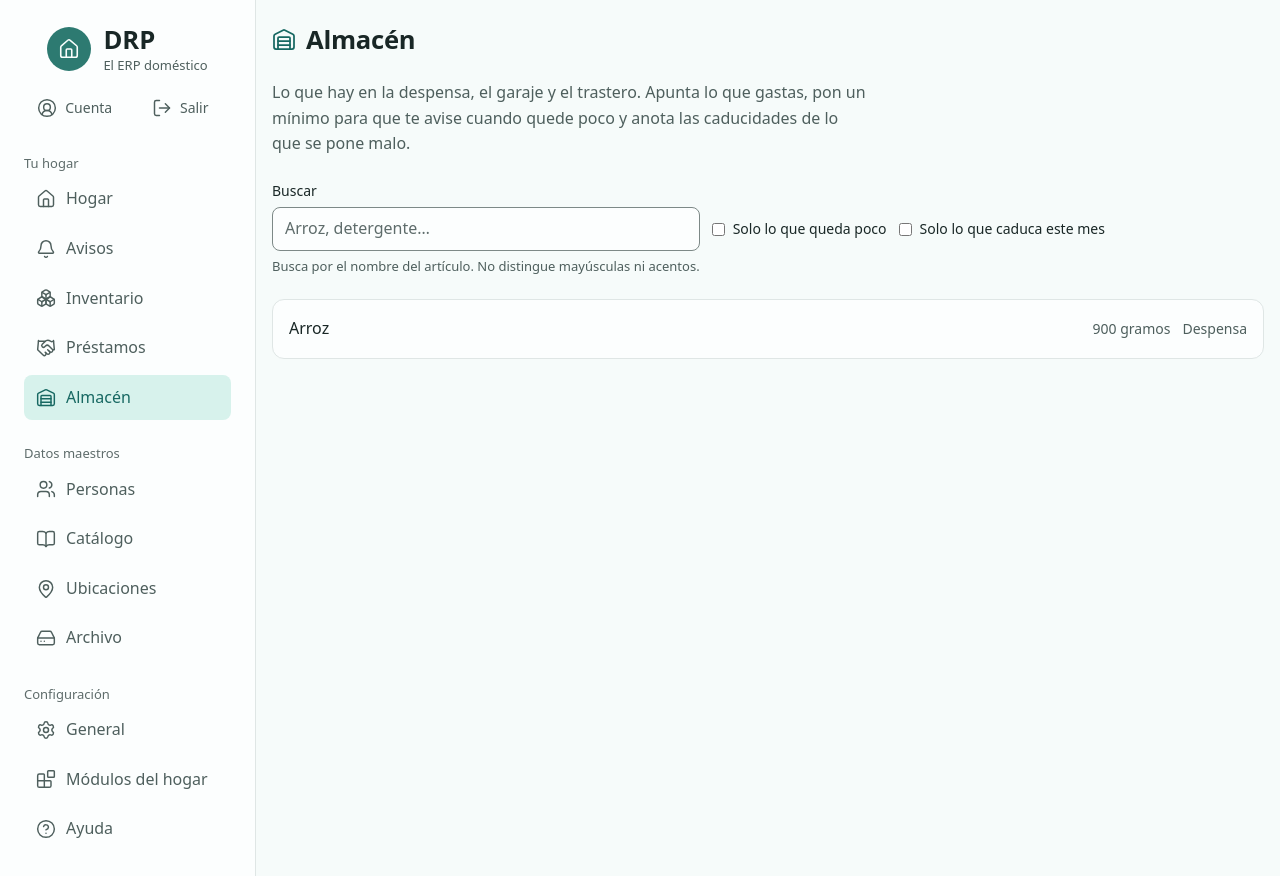
Test case: el almacén › con un filtro puesto y sin resultados, dice que es el filtro
Expected: the heading "Almacén" is shown, [306,24,415,56]
Expected: the button "Arroz 900 gramos Despensa" is shown, [273,300,1263,358]
Click the checkbox labelled "Solo lo que queda poco": (718, 229) [712,223,725,236]
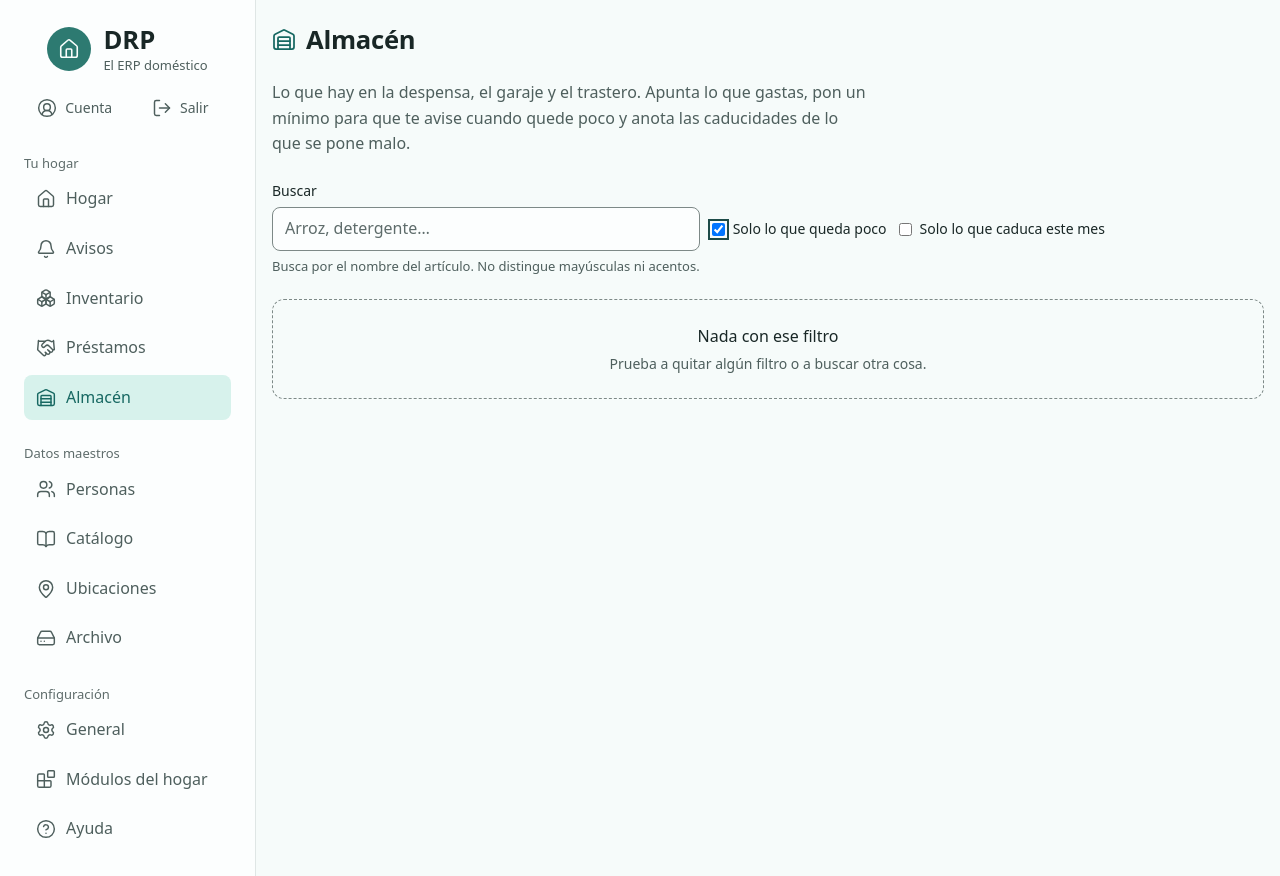
Expected: the text "Nada con ese filtro" is shown, [698,325,838,347]
